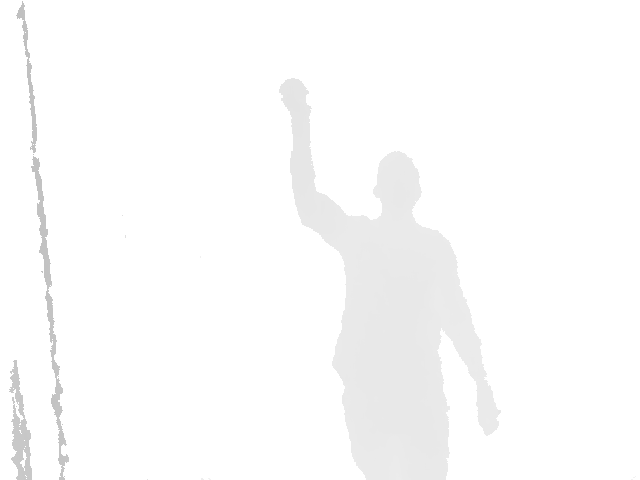hand: (277, 78, 312, 124)
hand_down: (475, 391, 502, 436)
head: (373, 151, 423, 215)
person: (277, 77, 503, 480)
